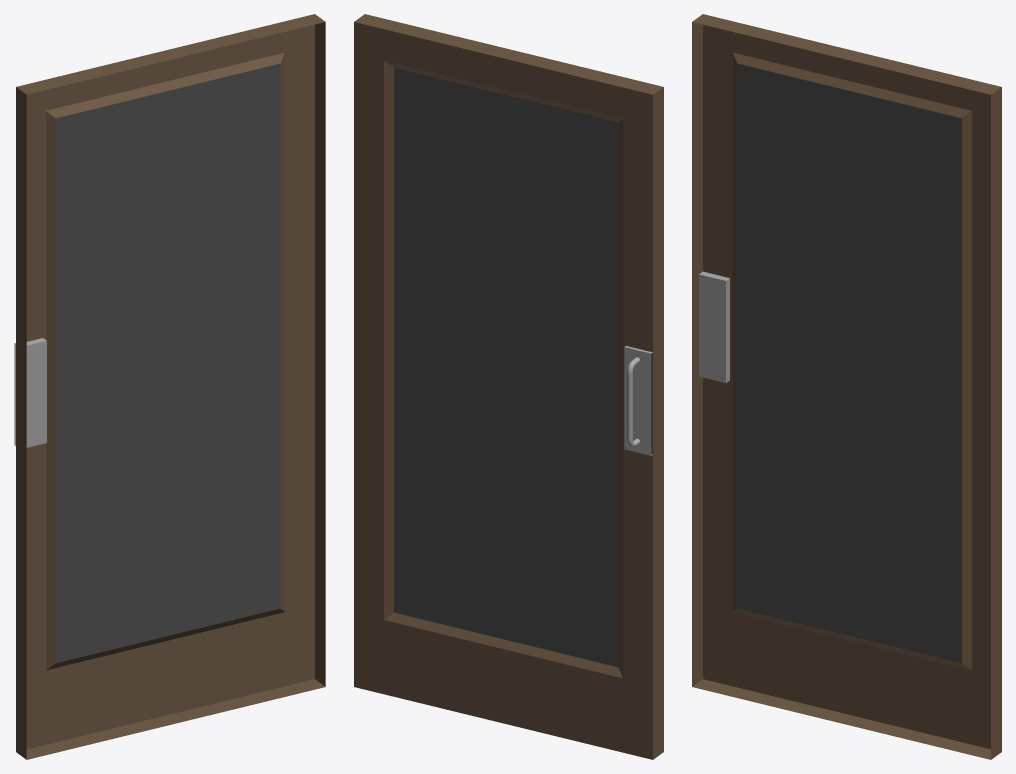
The model's file is Door_Library_entrance.fbx.
The picture shows the model from 3 angles, left to right: view 1: azimuth 30°, elevation 25°; view 2: azimuth 150°, elevation 25°; view 3: azimuth 330°, elevation 25°; orthographic projection.
Parts seen in each view (by area): view 1: pCylinder5; view 2: pCylinder5; view 3: pCylinder5.
Boxes of the visible parts, x1=… form: pCylinder5: x1=14, y1=14, x2=325, y2=759; pCylinder5: x1=354, y1=14, x2=663, y2=759; pCylinder5: x1=692, y1=14, x2=1001, y2=759.
Size of the model in its own units: 116 by 247 by 14.71.
